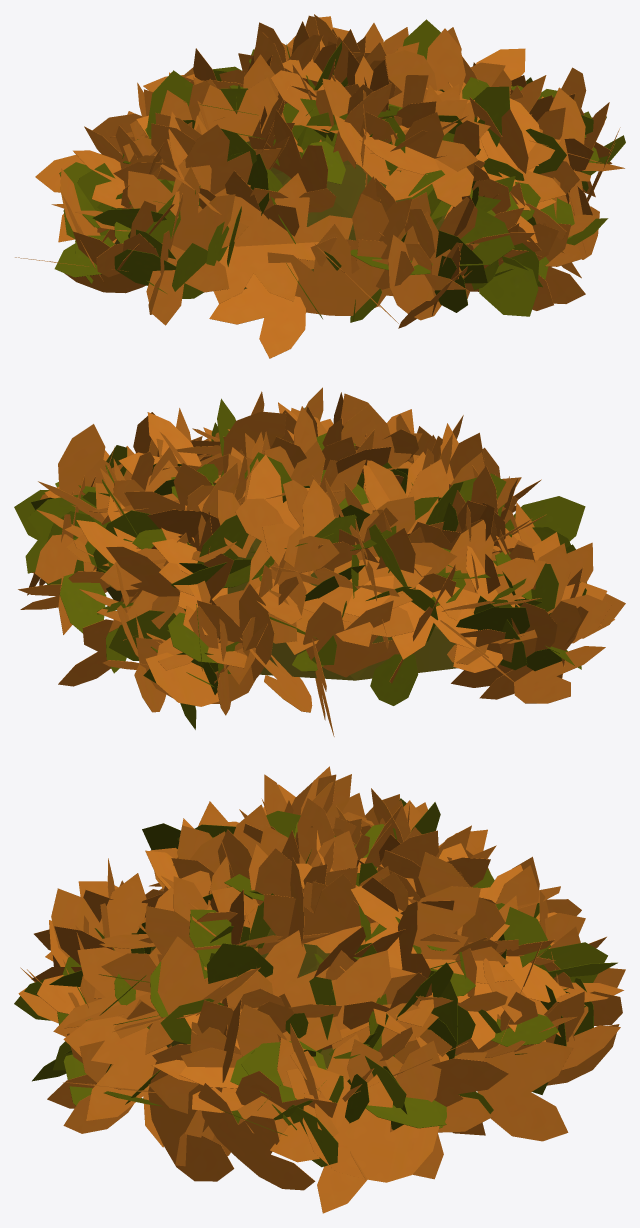
File: mod_bg_TasDeFeuille.fbx
3 renders of one model, top to bottom at view 1: azimuth 30°, elevation 25°; view 2: azimuth 150°, elevation 25°; view 3: azimuth 270°, elevation 25°, orthographic. The views are drawn at different scales.
Parts seen in each view (by area): view 1: Icosphere; view 2: Icosphere; view 3: Icosphere.
Boxes of the visible parts, <box> form: Icosphere: <box>15,14,625,358</box>; Icosphere: <box>14,387,625,736</box>; Icosphere: <box>14,766,625,1213</box>.
Bounding box in the file's own units: 224 × 79.99 × 186.
